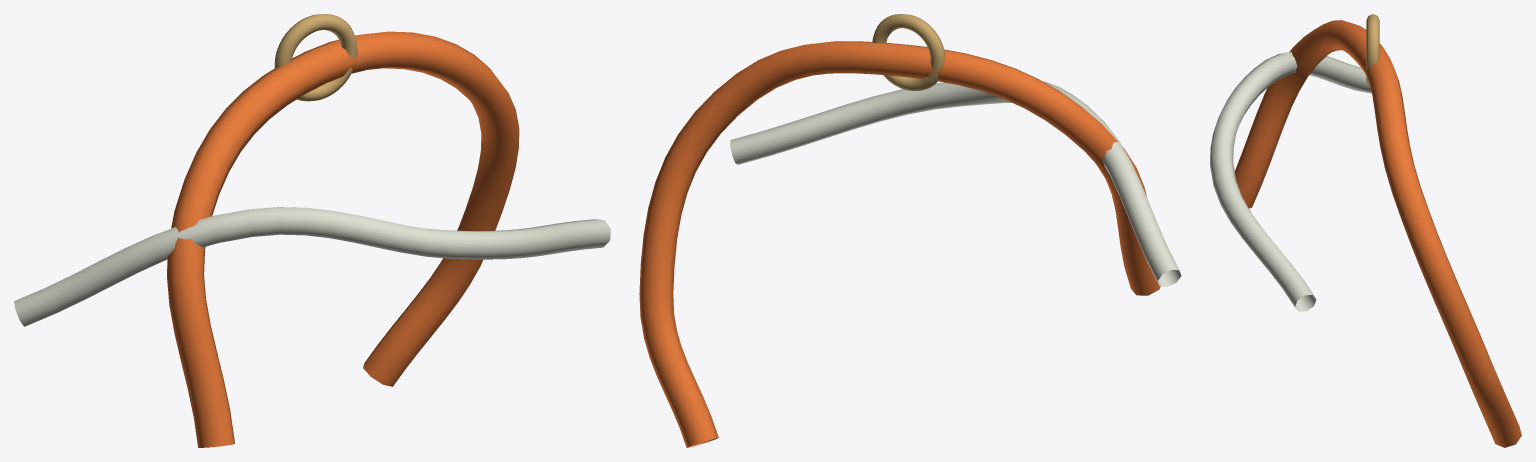
Rendered from harness.glb.
3 views of the same model, side by side, from view 1: azimuth 30°, elevation 25°; view 2: azimuth 150°, elevation 25°; view 3: azimuth 270°, elevation 25° (orthographic). The views are drawn at different scales.
Visible parts, largest first — view 1: Soft rescue webbing, Crossing shell webbing, Visible harness buckle; view 2: Soft rescue webbing, Crossing shell webbing, Visible harness buckle; view 3: Soft rescue webbing, Crossing shell webbing, Visible harness buckle.
Part boxes in pixels (x1,y1,x2,y2): Soft rescue webbing: [167, 31, 519, 447]; Crossing shell webbing: [14, 207, 610, 326]; Visible harness buckle: [274, 14, 357, 101]; Soft rescue webbing: [639, 41, 1160, 447]; Crossing shell webbing: [730, 81, 1181, 286]; Visible harness buckle: [872, 14, 944, 90]; Soft rescue webbing: [1235, 20, 1521, 447]; Crossing shell webbing: [1210, 52, 1371, 311]; Visible harness buckle: [1366, 14, 1379, 86].
Size of the model in its own units: 0.298 by 0.2417 by 0.1855.
